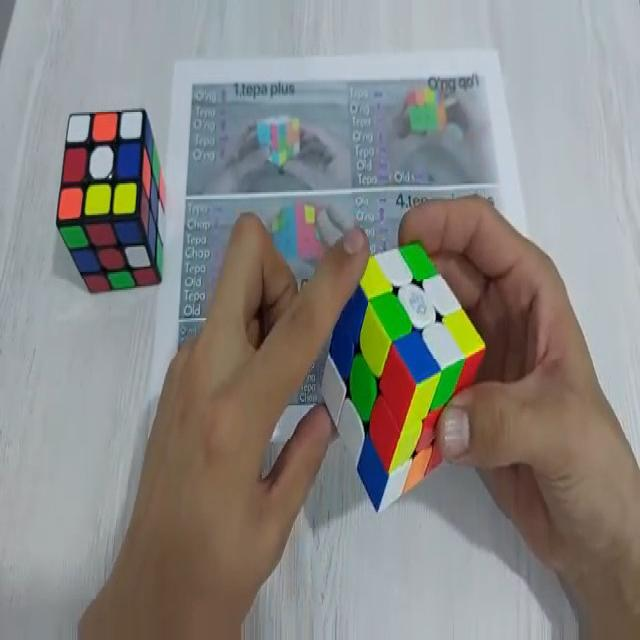Rub: (319, 239, 486, 517), (55, 110, 166, 299)
